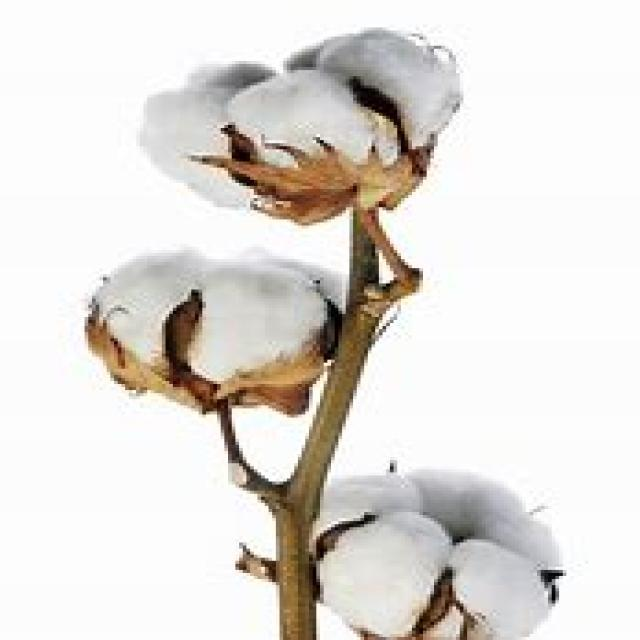Matured Cotton Boll: (140, 23, 463, 217), (308, 457, 569, 640), (81, 243, 353, 416)
